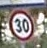limite 30: (8, 7, 34, 41)
